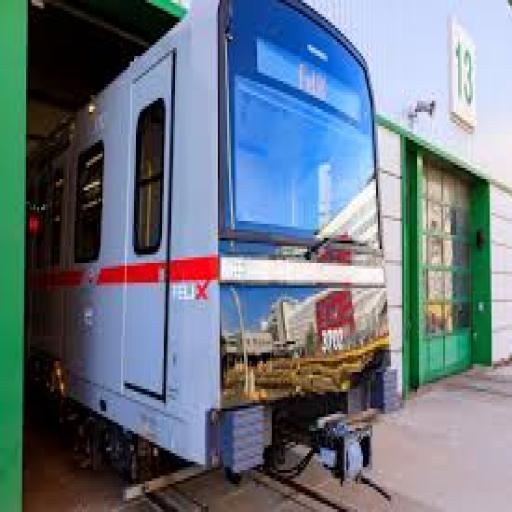X-Wagen: (22, 0, 397, 473)
